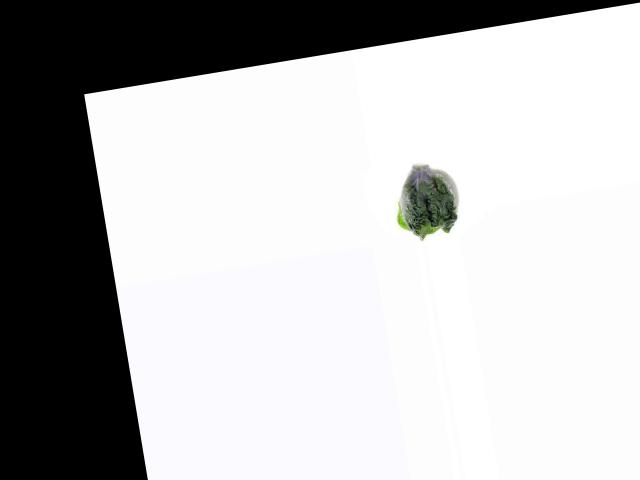lettuce: (385, 158, 466, 242)
